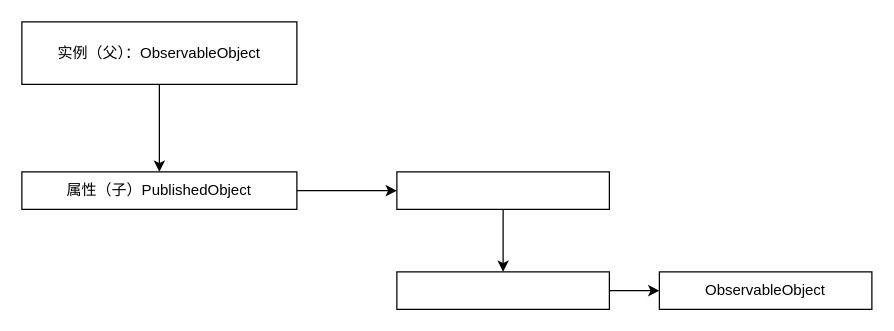
The diagram is 894 pixels wide and 331 high, and some of its shapes have lost their labels. Here are the shapes that lost their labels. From the top down, the centre of each, then its label:
At point 502,190: "wrappedValue".
At point 502,290: "storage".
